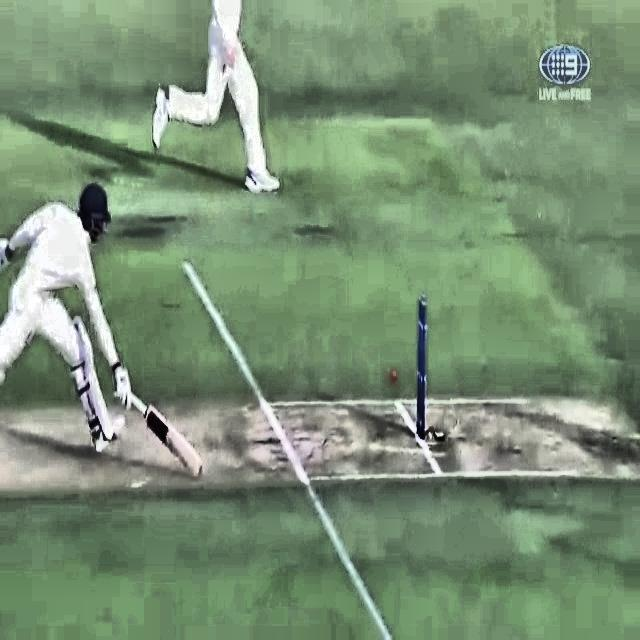Ball: (384, 365, 405, 392)
Bat: (111, 382, 211, 479)
Pitch_Line: (178, 259, 396, 640)
Undis_Wicket: (413, 290, 431, 444)
